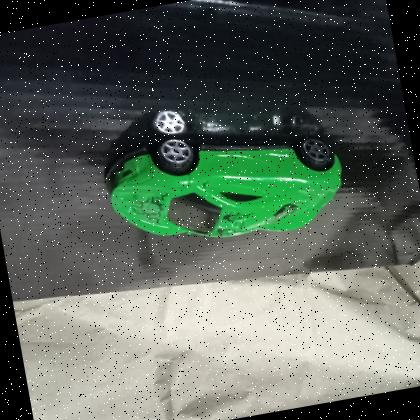Car: (92, 104, 358, 268)
